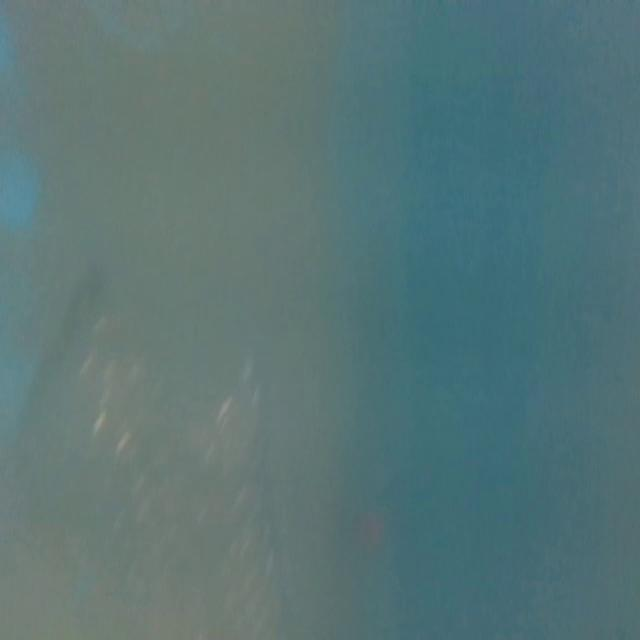plastic bottle: (89, 292, 311, 640)
